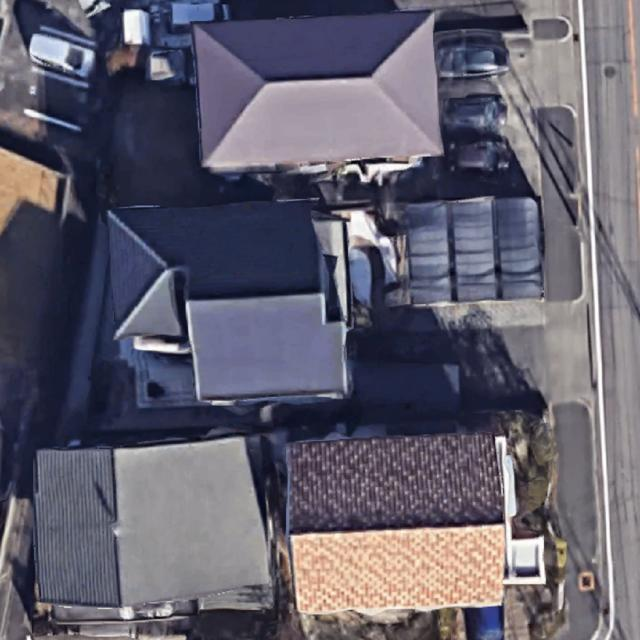Batiment: (109, 201, 349, 406), (192, 11, 444, 172), (35, 438, 271, 606), (288, 434, 506, 613)
